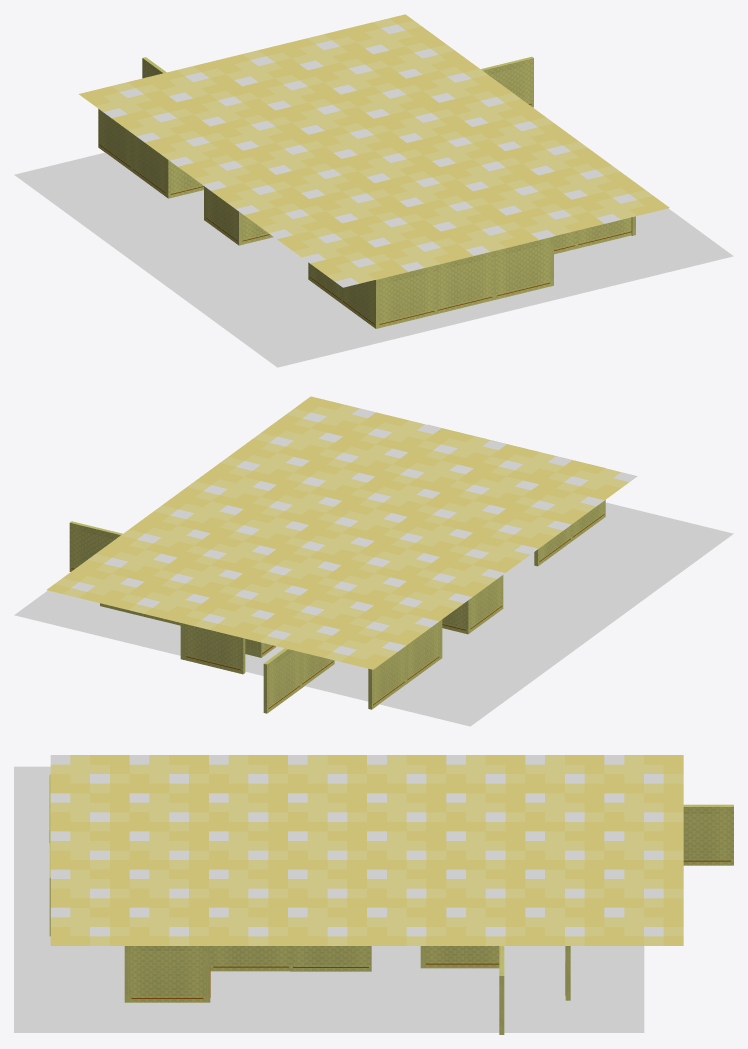
Rendered from backrooms.fbx.
The picture shows the model from 3 angles, top to bottom: view 1: azimuth 30°, elevation 25°; view 2: azimuth 150°, elevation 25°; view 3: azimuth 270°, elevation 25°; orthographic projection. The views are drawn at different scales.
Visible parts, largest first — view 1: Plane.002, Plane, Cube.020, Cube.019, Cube.018, Cube.043, Cube.037, Cube.036, Cube.022, Cube.023, Cube.016, Cube.034 (+1 smaller); view 2: Plane.002, Plane, Cube.031, Cube.038, Cube.036, Cube.043, Cube.037, Cube.023, Cube.039, Cube.025, Cube.021, Cube.022; view 3: Plane.002, Plane, Cube.005, Cube.038, Cube.007, Cube.006, Cube.030, Cube.043.
Part boxes in pixels (box(x1,y1,x2,y2)): Plane.002: box(79, 14, 669, 287); Plane: box(14, 152, 733, 367); Cube.020: box(435, 251, 494, 314); Cube.019: box(379, 265, 436, 327); Cube.018: box(494, 237, 550, 299); Cube.043: box(481, 56, 533, 107); Cube.037: box(132, 134, 166, 196); Cube.036: box(98, 109, 132, 171); Cube.022: box(342, 279, 379, 328); Cube.023: box(206, 187, 242, 245); Cube.016: box(576, 217, 631, 248); Cube.034: box(166, 158, 203, 198); Plane.002: box(47, 396, 637, 669); Plane: box(14, 502, 733, 726); Cube.031: box(184, 623, 245, 674); Cube.038: box(263, 648, 301, 713); Cube.036: box(368, 646, 405, 709); Cube.043: box(69, 521, 122, 571); Cube.037: box(406, 621, 440, 684); Cube.023: box(470, 575, 503, 632); Cube.039: box(301, 652, 334, 688); Cube.025: box(442, 599, 470, 634); Cube.021: box(534, 525, 571, 566); Cube.022: box(571, 467, 605, 541); Plane.002: box(50, 755, 683, 945); Plane: box(14, 766, 644, 1032); Cube.005: box(124, 946, 205, 1002); Cube.038: box(683, 804, 733, 865); Cube.007: box(290, 946, 371, 971); Cube.006: box(210, 946, 289, 971); Cube.030: box(425, 946, 499, 968); Cube.043: box(499, 946, 504, 1034).
Bounding box in the file's own units: 7160 × 734 × 8125.
Materials: 7 (1 with a texture image).
